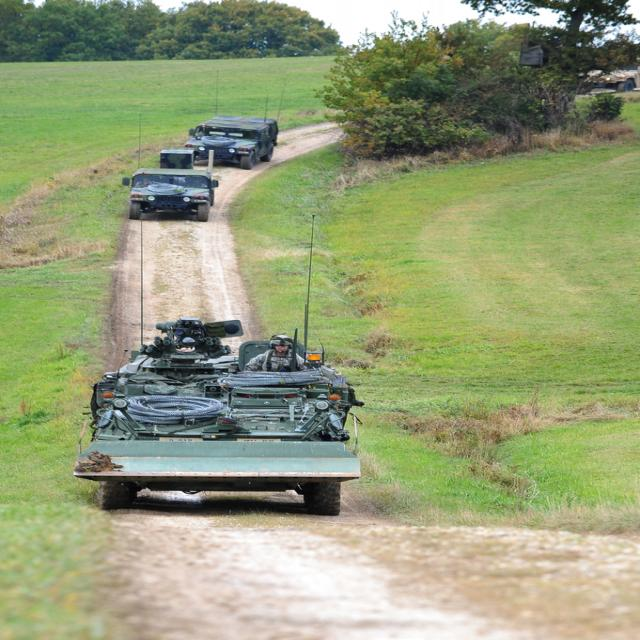tank: (69, 211, 365, 512)
